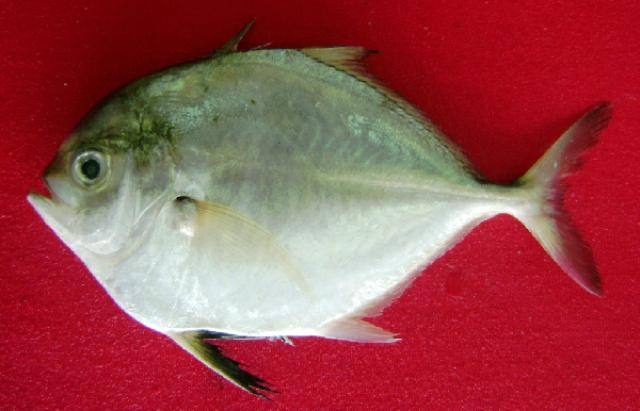Mulut: (10, 160, 80, 232)
Sirip Anal: (307, 278, 457, 363)
Sirip Dada: (172, 178, 298, 272)
Sirip Ekor: (504, 84, 626, 314)
Sirip Perut: (155, 313, 287, 407)
Sirip Punggung: (204, 13, 388, 89)
